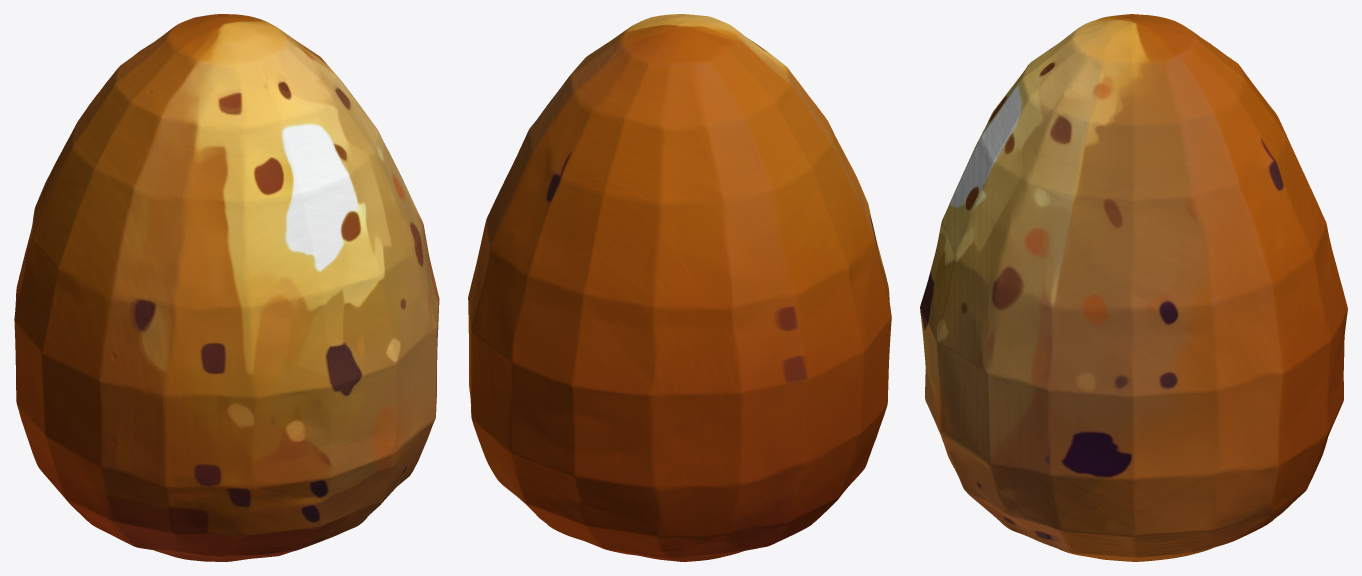
File: egg.glb
The picture shows the model from 3 angles, left to right: view 1: azimuth 30°, elevation 25°; view 2: azimuth 150°, elevation 25°; view 3: azimuth 270°, elevation 25°; orthographic projection.
Visible parts, largest first — view 1: tmp_bbtbrr8.ply; view 2: tmp_bbtbrr8.ply; view 3: tmp_bbtbrr8.ply.
Boxes of the visible parts, left/top/right/bottom form: tmp_bbtbrr8.ply: left=14, top=14, right=439, bottom=561; tmp_bbtbrr8.ply: left=468, top=14, right=891, bottom=561; tmp_bbtbrr8.ply: left=920, top=14, right=1347, bottom=561.
Size of the model in its own units: 1.54 by 1.99 by 1.55.
Materials: 1 (1 with a texture image).
